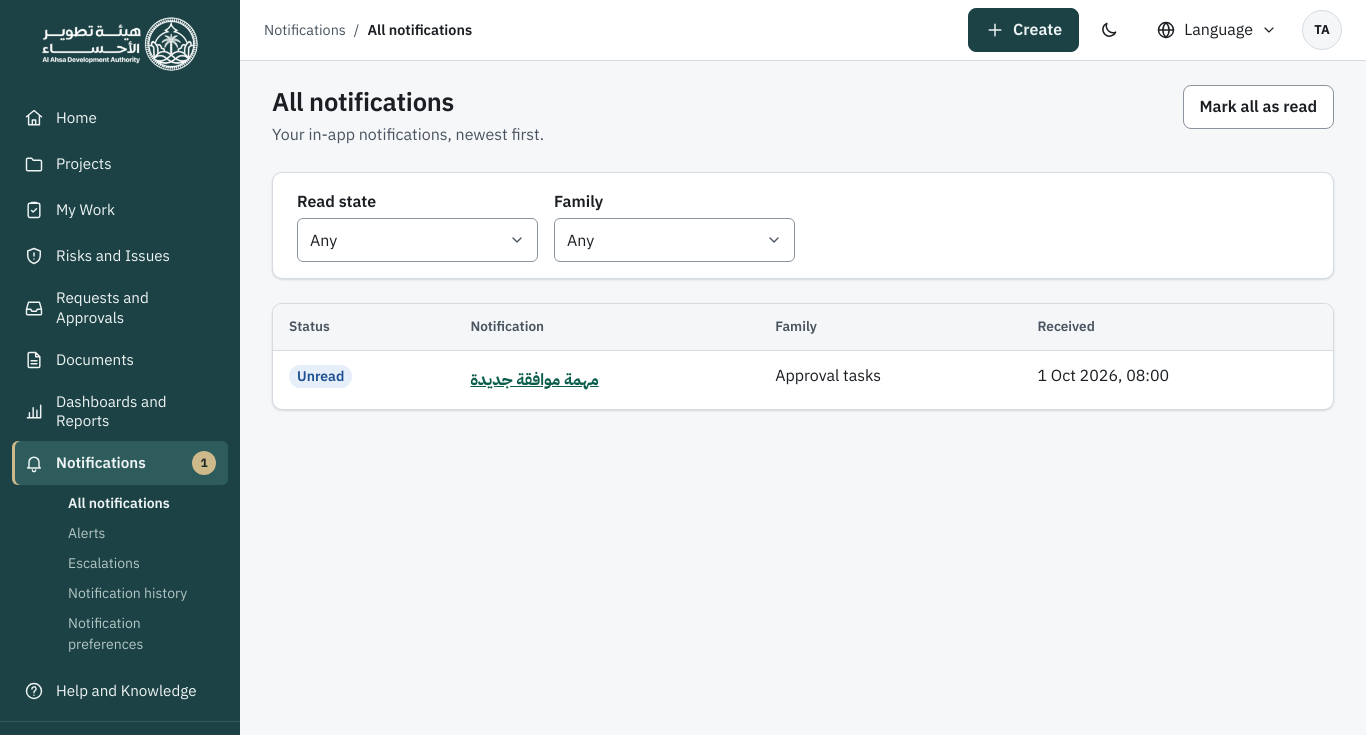
Test: MOD-070 Notification Detail › an Arabic notification keeps its language, and a notification no longer there is an error
Click the button "مهمة موافقة جديدة" at (534, 380), box [470, 363, 599, 397]
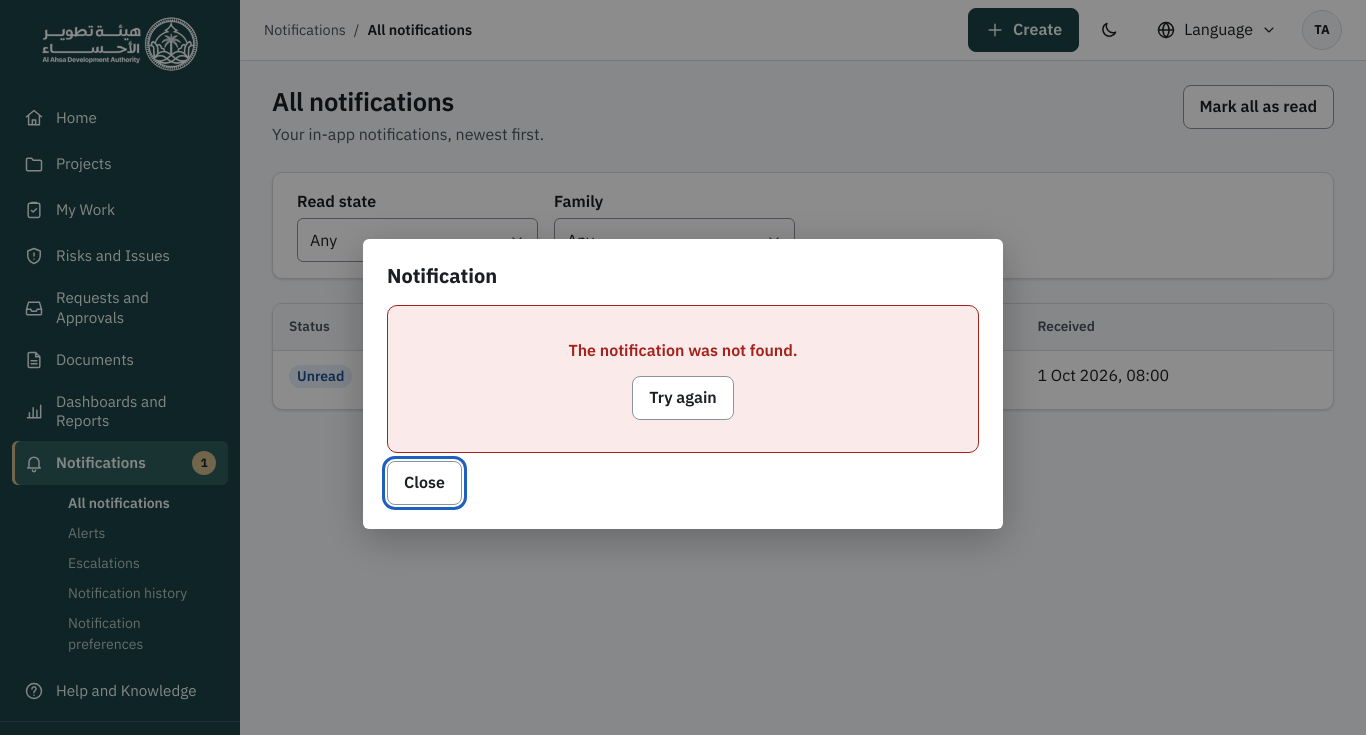
Expected: the message shows "The notification was not found.", [568, 340, 798, 360]
